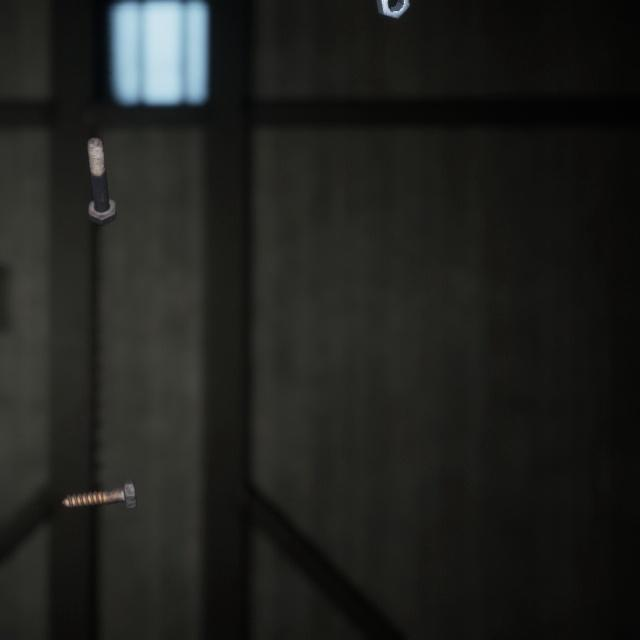bolt: (82, 119, 120, 215), (57, 454, 141, 492)
